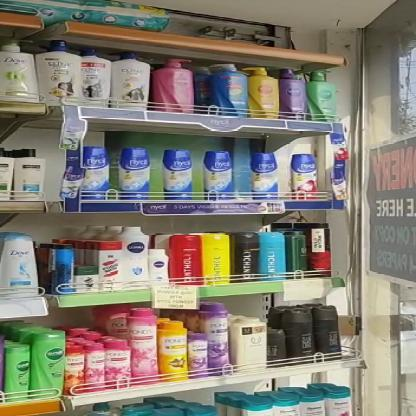Nycil Prickly Heat Powder: (120, 148, 149, 198), (160, 149, 190, 197), (204, 149, 230, 197), (82, 146, 106, 194), (250, 152, 276, 196), (288, 152, 314, 194)
